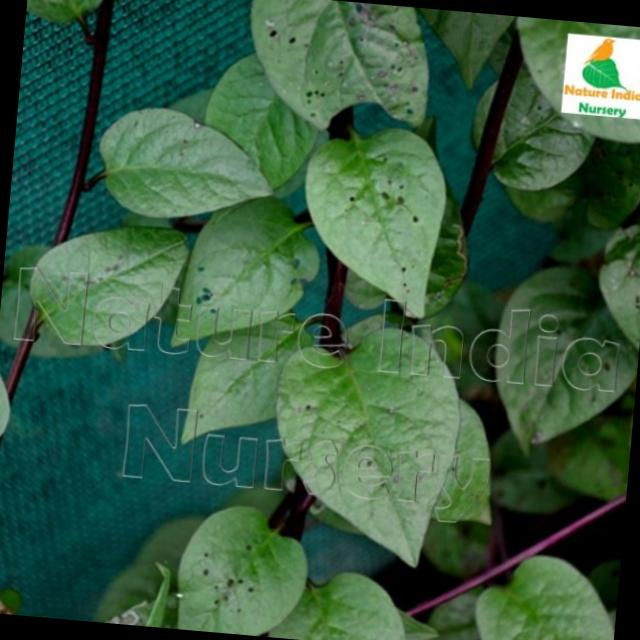Medicinal-Basale: (6, 0, 559, 326), (216, 333, 614, 640)
